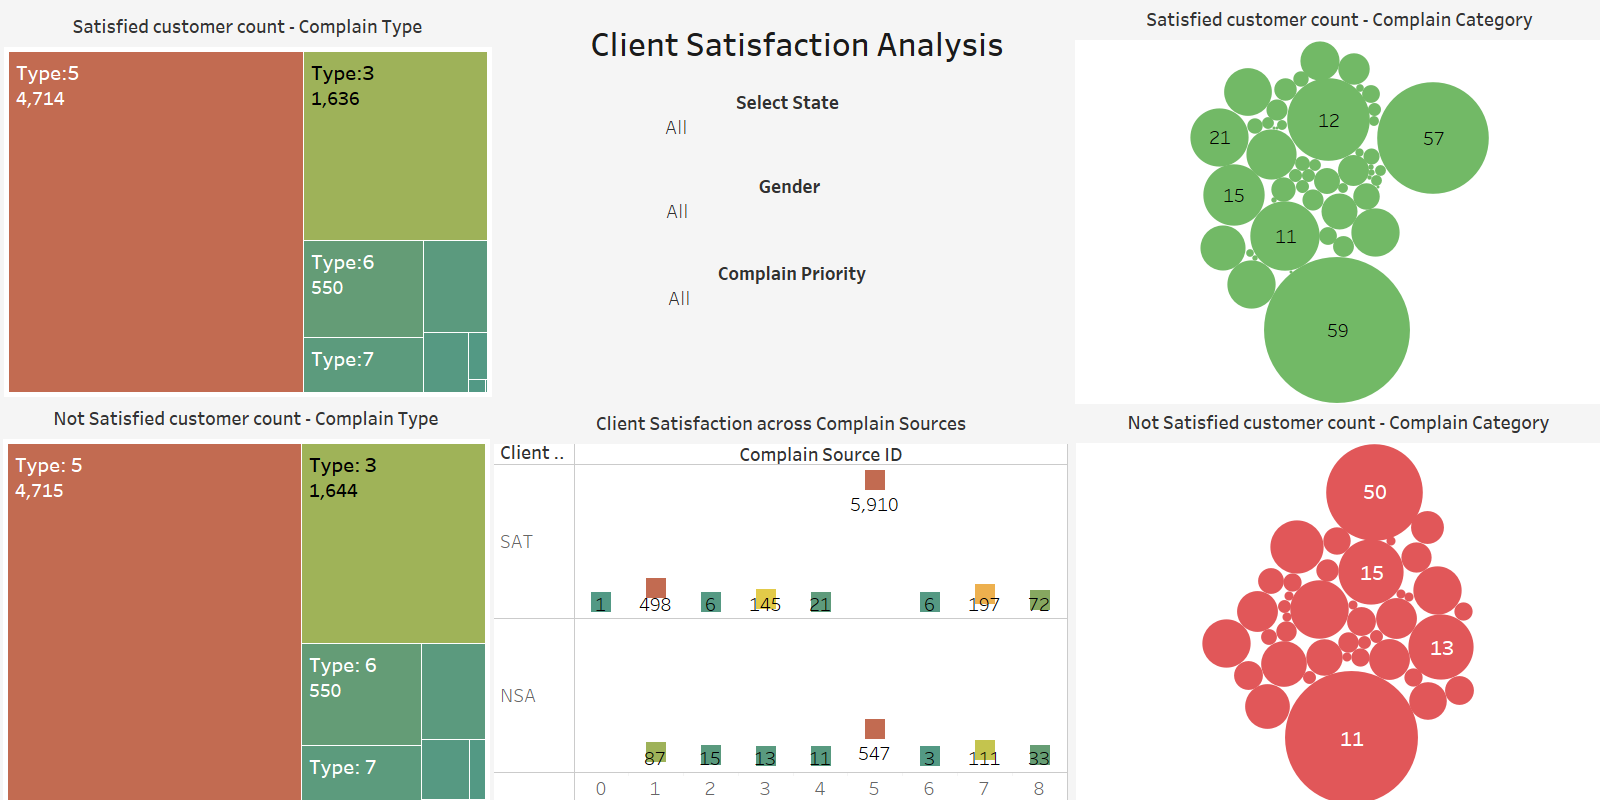

Layout of this report page (visuals, bound fields, positions):
{"tool":"tableau","page":{"name":"Client Satisfaction","canvas":[1600,800],"ordinal":0},"visuals":[{"type":"worksheet","title":"cus_satSA for different category","mark":"Circle","box":[1075,0,529,403]},{"type":"text","box":[582,4,430,78]},{"type":"worksheet","title":"Sat cust vs. comp.type","mark":"Automatic","box":[4,7,487,389]},{"type":"filter","title":"cus_satSA for different category","param":"[federated.0wpetlz05slr5d1921f501m4siev].[none:ComplainPriorityID:ok]","box":[661,87,252,73]},{"type":"filter","title":"cus_satSA for different category","param":"[federated.0wpetlz05slr5d1921f501m4siev].[none:Gender (Customers):nk]","box":[662,163,251,77]},{"type":"filter","title":"NSat cust vs. comp.type","param":"[federated.0wpetlz05slr5d1921f501m4siev].[none:ProductID:ok]","box":[663,244,252,76]},{"type":"filter","title":"cus_satNSA for different category","param":"[federated.0wpetlz05slr5d1921f501m4siev].[none:state:nk]","box":[663,322,249,79]},{"type":"worksheet","title":"cus_satNSA for different category","mark":"Circle","box":[1076,403,525,401]},{"type":"worksheet","title":"cus_sat - comp_source","mark":"Square","rows":["ClientSatisfaction","ResolveDays (Predictive Model1 Data)"],"cols":["ComplainSourceID"],"box":[494,404,574,398]}]}

Visuals, with their boxes in screenshot pixels (x1, y1, x2, y2), scaled from the page's 1600x800 canvas onto the 1600x800 screenshot:
"cus_satSA for different category" worksheet (Circle marks): bbox=[1075, 0, 1599, 403]
text: bbox=[582, 4, 1012, 82]
"Sat cust vs. comp.type" worksheet: bbox=[4, 7, 491, 396]
"cus_satSA for different category" filter: bbox=[661, 87, 913, 160]
"cus_satSA for different category" filter: bbox=[662, 163, 913, 240]
"NSat cust vs. comp.type" filter: bbox=[663, 244, 915, 320]
"cus_satNSA for different category" filter: bbox=[663, 322, 912, 401]
"cus_satNSA for different category" worksheet (Circle marks): bbox=[1076, 403, 1599, 799]
"cus_sat - comp_source" worksheet (Square marks): bbox=[494, 404, 1068, 799]
